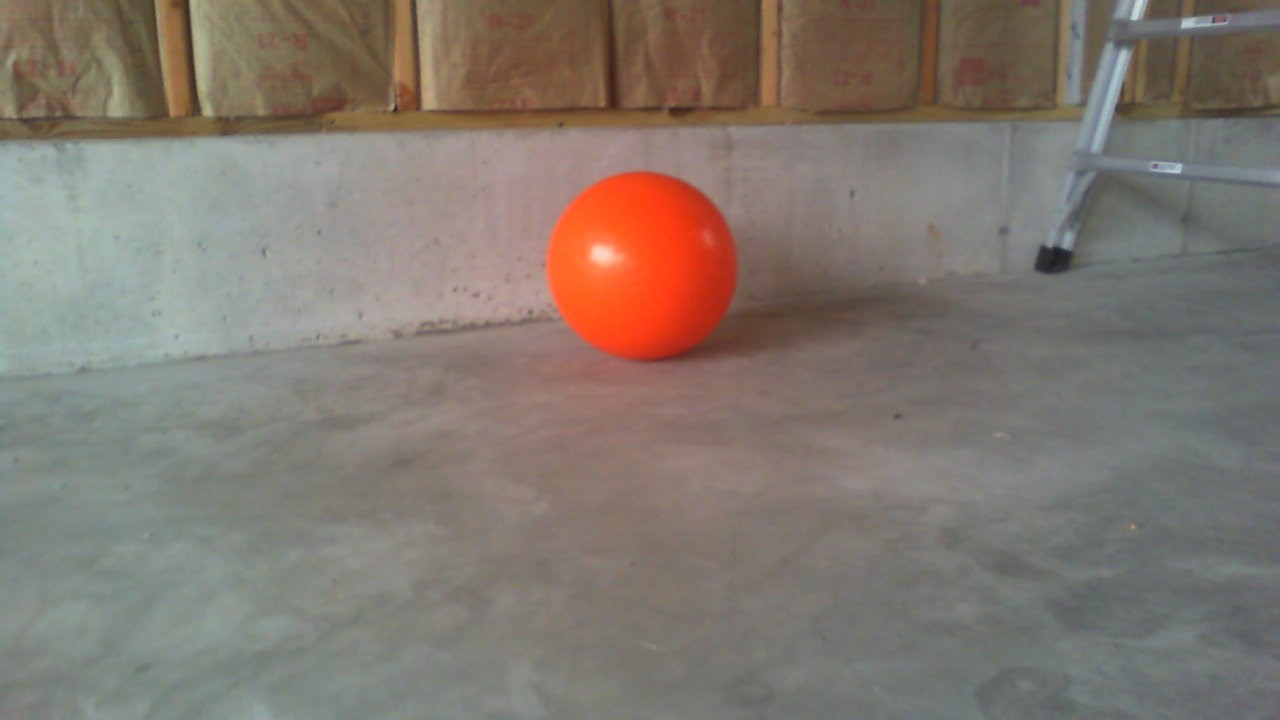Ball: (545, 171, 738, 358)
